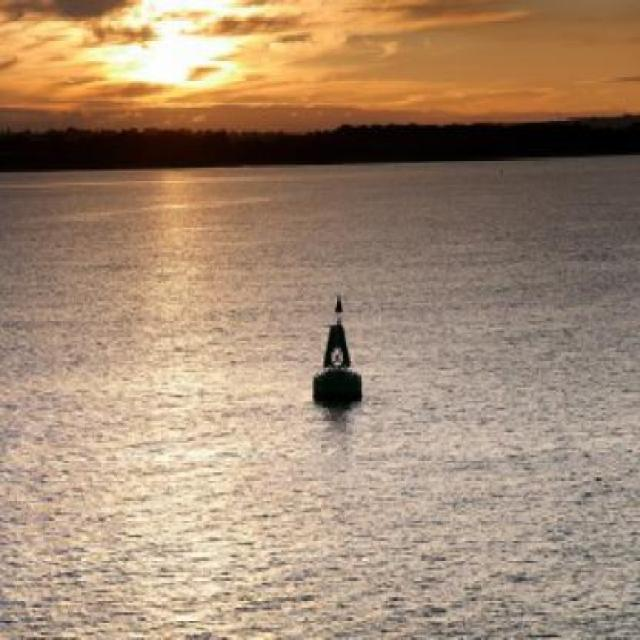buoy: (307, 283, 370, 419)
